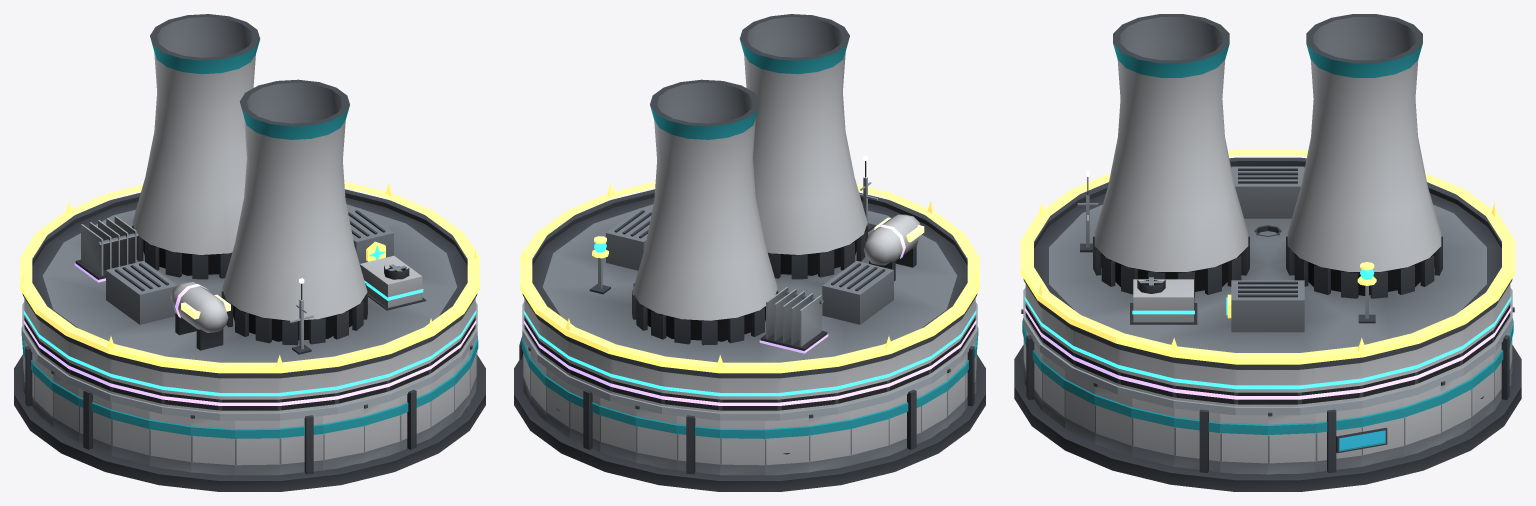
The model's file is atmo_processor.glb.
3 views of the same model, side by side, from view 1: azimuth 30°, elevation 25°; view 2: azimuth 150°, elevation 25°; view 3: azimuth 270°, elevation 25° (orthographic). The views are drawn at different scales.
Visible parts, largest first — view 1: Roof, Base, L4, L3, Wall_21, Wall_20, Wall_22, Wall_19, Wall_23, Wall_18, Wall_24, Wall_17 (+27 smaller); view 2: Roof, Base, L4, Wall_10, Wall_09, Wall_11, Wall_12, Wall_08, Wall_13, Wall_07, Wall_14, Wall_06 (+26 smaller); view 3: Roof, Base, L3, Wall_00, Wall_31, Wall_30, Wall_29, Wall_01, Wall_03, Wall_28, Wall_02, Wall_04 (+31 smaller).
Boxes of the visible parts, x1,y1,x2,y2 form: Roof: (22, 14, 477, 378); Base: (14, 354, 485, 491); L4: (74, 216, 230, 350); L3: (359, 255, 426, 310); Wall_21: (235, 420, 279, 475); Wall_20: (190, 415, 234, 475); Wall_22: (279, 415, 323, 474); Wall_19: (149, 411, 191, 472); Wall_23: (323, 408, 364, 470); Wall_18: (110, 402, 149, 465); Wall_24: (363, 397, 400, 462); Wall_17: (78, 388, 111, 455); Roof: (522, 14, 977, 378); Base: (514, 354, 985, 491); L4: (759, 214, 924, 353); Wall_10: (720, 420, 764, 475); Wall_09: (676, 415, 720, 474); Wall_11: (765, 417, 809, 475); Wall_12: (808, 411, 850, 472); Wall_08: (635, 405, 676, 470); Wall_13: (850, 402, 889, 465); Wall_07: (599, 397, 636, 462); Wall_14: (888, 388, 921, 455); Wall_06: (568, 384, 600, 451); Roof: (1023, 14, 1512, 369); Base: (1014, 345, 1521, 491); L3: (1130, 225, 1281, 324); Wall_00: (1268, 412, 1315, 474); Wall_31: (1220, 413, 1267, 474); Wall_30: (1174, 408, 1220, 472); Wall_29: (1131, 398, 1174, 466); Wall_01: (1315, 408, 1361, 472); Wall_03: (1403, 385, 1441, 456); Wall_28: (1093, 382, 1132, 456); Wall_02: (1361, 398, 1404, 466); Wall_04: (1440, 370, 1472, 443).
Size of the model in its own units: 9.72 by 7.32 by 9.72.
